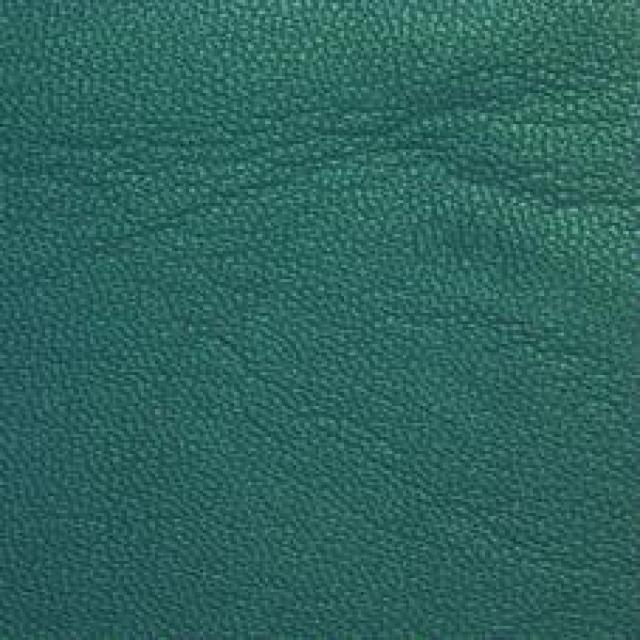Growth Marks: (68, 88, 446, 207)
